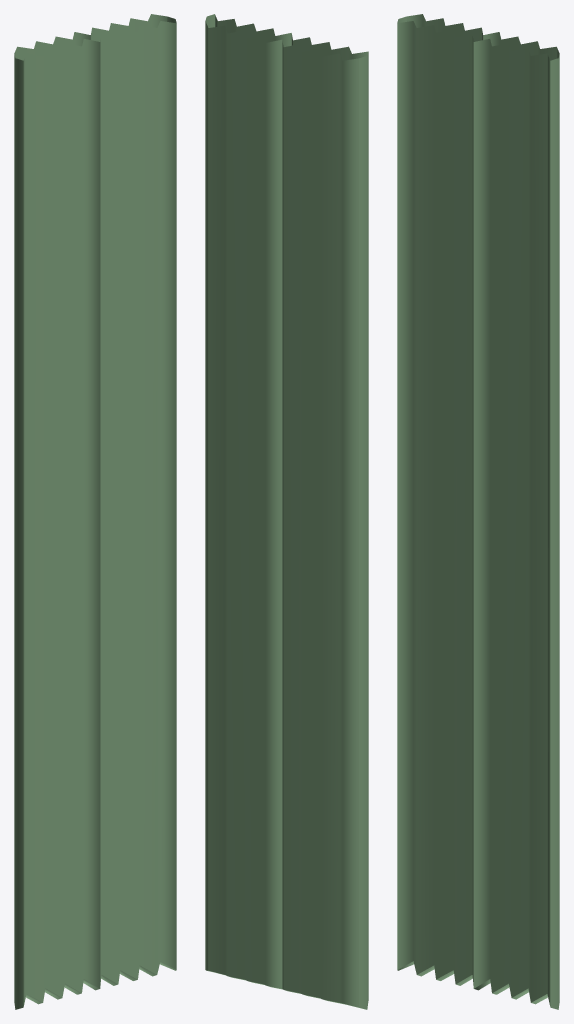
File: Curtain_NewMat_SC.fbx
The picture shows the model from 3 angles, left to right: view 1: azimuth 30°, elevation 25°; view 2: azimuth 150°, elevation 25°; view 3: azimuth 330°, elevation 25°; orthographic projection.
Visible parts, largest first — view 1: curtain_NewMat; view 2: curtain_NewMat; view 3: curtain_NewMat.
Boxes of the visible parts, <box> form: curtain_NewMat: <box>14,14,176,1009</box>; curtain_NewMat: <box>205,14,368,1009</box>; curtain_NewMat: <box>397,14,559,1009</box>.
Bounding box in the file's own units: 0.7078 × 4.02 × 0.1291.
